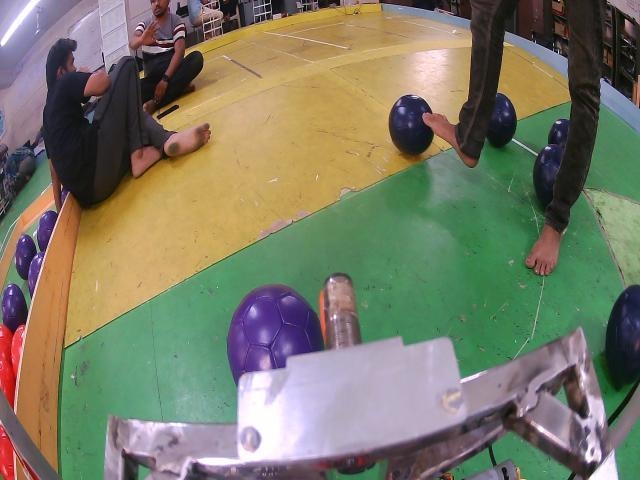jambhalya: (228, 285, 324, 385), (1, 283, 28, 333), (15, 235, 36, 280), (36, 210, 58, 252), (28, 252, 45, 298)
kaalyya: (605, 285, 640, 385), (389, 95, 434, 155), (532, 145, 564, 207), (486, 93, 516, 147), (548, 118, 570, 148)
